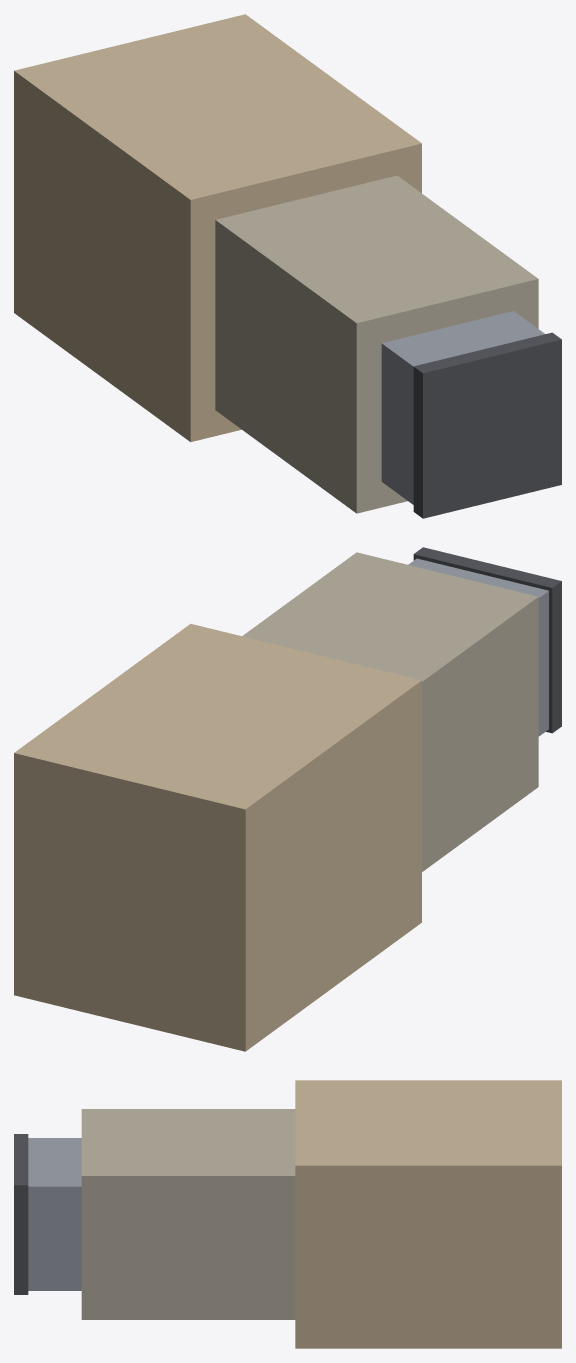
File: building_tower.obj
3 views of the same model, one above another, from view 1: azimuth 30°, elevation 25°; view 2: azimuth 150°, elevation 25°; view 3: azimuth 270°, elevation 25° (orthographic). The views are drawn at different scales.
Visible parts, largest first — view 1: building_tower_base, building_tower_mid, building_tower_parapet, building_tower_cap; view 2: building_tower_base, building_tower_mid, building_tower_parapet, building_tower_cap; view 3: building_tower_base, building_tower_mid, building_tower_cap, building_tower_parapet.
Part boxes in pixels (left/top/right/bottom): building_tower_base: left=14, top=14, right=421, bottom=442; building_tower_mid: left=215, top=175, right=538, bottom=513; building_tower_parapet: left=413, top=332, right=561, bottom=518; building_tower_cap: left=381, top=311, right=545, bottom=504; building_tower_base: left=14, top=623, right=421, bottom=1051; building_tower_mid: left=242, top=552, right=538, bottom=871; building_tower_parapet: left=413, top=547, right=561, bottom=733; building_tower_cap: left=408, top=558, right=548, bottom=736; building_tower_base: left=295, top=1080, right=561, bottom=1348; building_tower_mid: left=81, top=1109, right=295, bottom=1319; building_tower_cap: left=28, top=1138, right=81, bottom=1290; building_tower_parapet: left=14, top=1134, right=28, bottom=1294.
Bounding box in the file's own units: 14 × 14 × 38.
